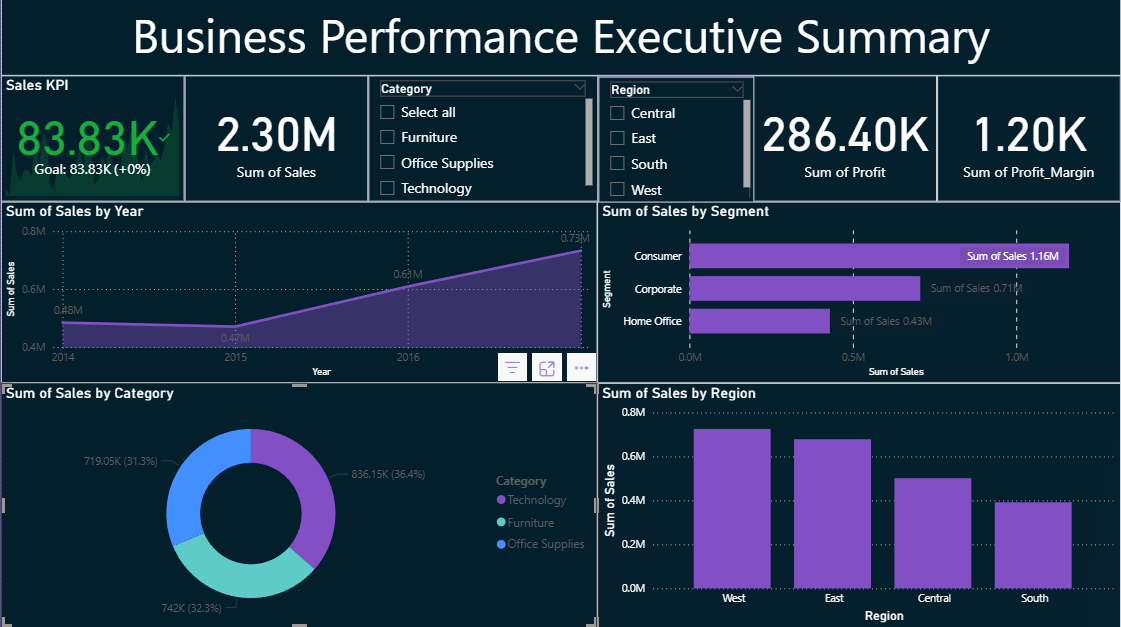

The page's visual inventory and layout, read from the dashboard file:
{"tool":"powerbi","page":{"name":"Page 1","canvas":[1280,720],"ordinal":0},"visuals":[{"type":"lineChart","fields":{"Category":["Superstore_clean.MonthYear.Variation.Date Hierarchy.Year","Superstore_clean.MonthYear.Variation.Date Hierarchy.Quarter","Superstore_clean.MonthYear.Variation.Date Hierarchy.Month","Superstore_clean.MonthYear.Variation.Date Hierarchy.Day"],"Y":["Sum(Superstore_clean.Sales)"]},"box":[0,233.3,682,207.2],"z":0},{"type":"clusteredColumnChart","fields":{"Category":["Superstore_clean.Region"],"Y":["Sum(Superstore_clean.Sales)"]},"box":[682,440.5,598.3,279.9],"z":1000},{"type":"donutChart","fields":{"Category":["Superstore_clean.Category"],"Y":["Sum(Superstore_clean.Sales)"]},"box":[0,440.5,682,279.9],"z":2000},{"type":"kpi","title":"Sales KPI","fields":{"Indicator":["Sum(Superstore_clean.Sales)"],"TrendLine":["Superstore_clean.YearMonth"],"Goal":["Sum(Superstore_clean.Sales)"]},"box":[0,89.2,209.9,144.1],"z":3000},{"type":"slicer","fields":{"Values":["Superstore_clean.Region"]},"box":[682.9,89.6,179.1,144.3],"z":4000},{"type":"slicer","fields":{"Values":["Superstore_clean.Category"]},"box":[419.9,89.2,262.1,144.1],"z":5000},{"type":"card","fields":{"Values":["Sum(Superstore_clean.Sales)"]},"box":[209.9,89.2,209.9,144.1],"z":6000},{"type":"card","fields":{"Values":["Sum(Superstore_clean.Profit)"]},"box":[860.4,89.2,209.9,144.1],"z":7000},{"type":"card","fields":{"Values":["Sum(Superstore_clean.Profit_Margin)"]},"box":[1070.3,89.2,209.9,144.1],"z":8000},{"type":"clusteredBarChart","fields":{"Category":["Superstore_clean.Segment"],"Y":["Sum(Superstore_clean.Sales)"]},"box":[682,233.3,598.3,207.2],"z":9000},{"type":"textbox","box":[0,0,1280.3,89.2],"z":10000}]}

Visuals, with their boxes in screenshot pixels (x1, y1, x2, y2), scaled from the page's 1280x720 canvas onto the 1121x627 screenshot:
lineChart - Superstore_clean.MonthYear.Variation.Date Hierarchy.Year x Superstore_clean.MonthYear.Variation.Date Hierarchy.Quarter: select_region(0, 203, 597, 384)
clusteredColumnChart - Superstore_clean.Region x Sum(Superstore_clean.Sales): select_region(597, 384, 1120, 626)
donutChart - Superstore_clean.Category x Sum(Superstore_clean.Sales): select_region(0, 384, 597, 626)
"Sales KPI" kpi: select_region(0, 78, 184, 203)
slicer - Superstore_clean.Region: select_region(598, 78, 755, 204)
slicer - Superstore_clean.Category: select_region(368, 78, 597, 203)
card - Sum(Superstore_clean.Sales): select_region(184, 78, 368, 203)
card - Sum(Superstore_clean.Profit): select_region(754, 78, 937, 203)
card - Sum(Superstore_clean.Profit_Margin): select_region(937, 78, 1120, 203)
clusteredBarChart - Superstore_clean.Segment x Sum(Superstore_clean.Sales): select_region(597, 203, 1120, 384)
textbox: select_region(0, 0, 1120, 78)
